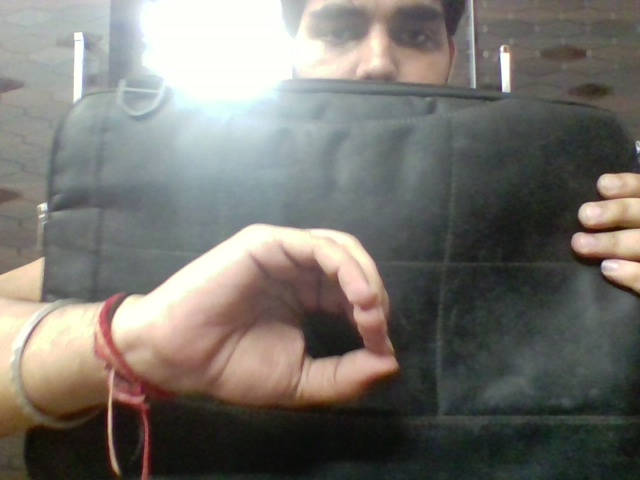o: (166, 214, 402, 412)
